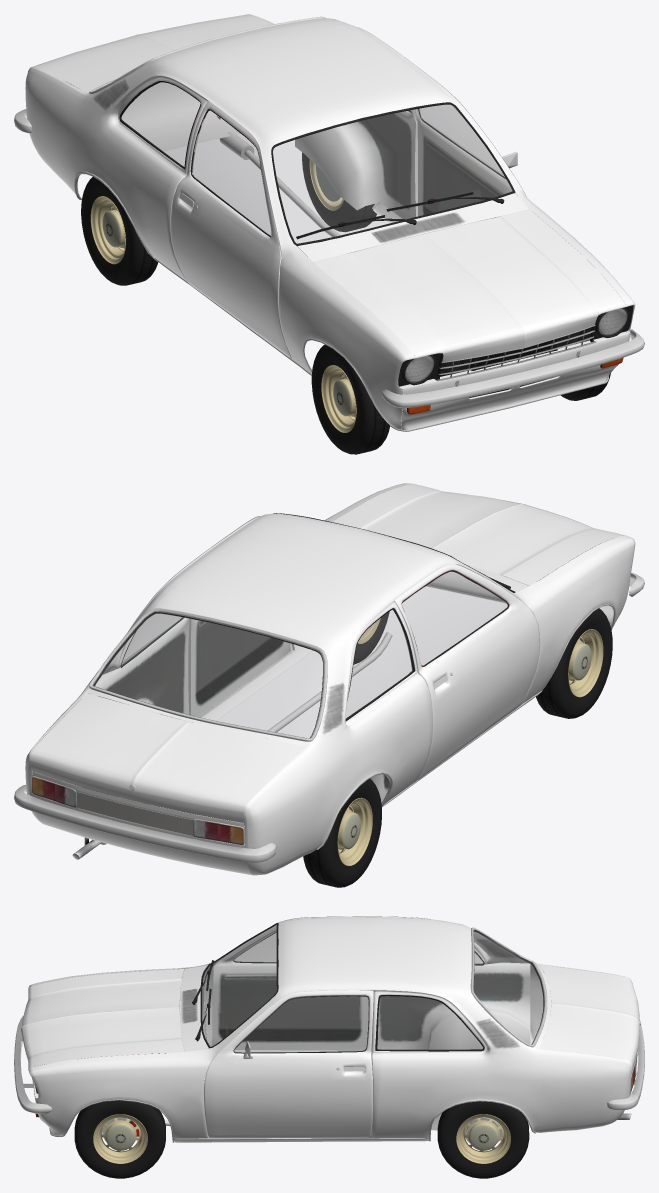
File: chevette-sl76.glb
3 views of the same model, one above another, from view 1: azimuth 30°, elevation 25°; view 2: azimuth 150°, elevation 25°; view 3: azimuth 270°, elevation 25° (orthographic). The views are drawn at different scales.
Parts seen in each view (by area): view 1: Body_ChevetteSL76_ChevetteMaterialLataria_0, ParabrisaeVidros_Vidros_0, object 2, Pneu_D_Front_Pneu_0, Pneu_D_Back_Pneu_0, Pneu_D_Back_Rodas_0, Pneu_D_Front_Rodas_0, Pneu_E_Back_Pneu_0, object 5, object 3; view 2: Body_ChevetteSL76_ChevetteMaterialLataria_0, ParabrisaeVidros_Vidros_0, object 2, Pneu_D_Front_Pneu_0, Pneu_D_Back_Pneu_0, Pneu_D_Back_Rodas_0, Pneu_D_Front_Rodas_0, object 4, object 5, Pneu_E_Front_Pneu_0; view 3: Body_ChevetteSL76_ChevetteMaterialLataria_0, ParabrisaeVidros_Vidros_0, object 2, Pneu_E_Front_Pneu_0, Pneu_E_Back_Pneu_0, Pneu_E_Back_Rodas_0, Pneu_E_Front_Rodas_0.
Boxes of the visible parts, box(x1,y1,x2,y2) form: Body_ChevetteSL76_ChevetteMaterialLataria_0: box(25, 14, 635, 430); ParabrisaeVidros_Vidros_0: box(119, 71, 512, 243); object 2: box(14, 16, 644, 431); Pneu_D_Front_Pneu_0: box(311, 344, 389, 454); Pneu_D_Back_Pneu_0: box(81, 177, 158, 285); Pneu_D_Back_Rodas_0: box(90, 196, 125, 264); Pneu_D_Front_Rodas_0: box(321, 365, 356, 432); Pneu_E_Back_Pneu_0: box(302, 152, 376, 232); object 5: box(217, 115, 340, 236); object 3: box(405, 308, 626, 381); Body_ChevetteSL76_ChevetteMaterialLataria_0: box(25, 483, 635, 875); ParabrisaeVidros_Vidros_0: box(94, 572, 507, 737); object 2: box(14, 513, 644, 862); Pneu_D_Front_Pneu_0: box(536, 608, 612, 718); Pneu_D_Back_Pneu_0: box(303, 778, 381, 887); Pneu_D_Back_Rodas_0: box(337, 797, 372, 865); Pneu_D_Front_Rodas_0: box(568, 629, 603, 697); object 4: box(32, 777, 243, 844); object 5: box(72, 632, 392, 859); Pneu_E_Front_Pneu_0: box(353, 611, 389, 664); Body_ChevetteSL76_ChevetteMaterialLataria_0: box(20, 916, 639, 1142); ParabrisaeVidros_Vidros_0: box(202, 924, 543, 1052); object 2: box(14, 923, 644, 1142); Pneu_E_Front_Pneu_0: box(74, 1100, 165, 1178); Pneu_E_Back_Pneu_0: box(437, 1101, 529, 1178); Pneu_E_Back_Rodas_0: box(456, 1114, 510, 1163); Pneu_E_Front_Rodas_0: box(93, 1114, 147, 1163).
Bounding box in the file's own units: 1.61 × 1.34 × 4.12.
Materials: 5 (4 with a texture image).
